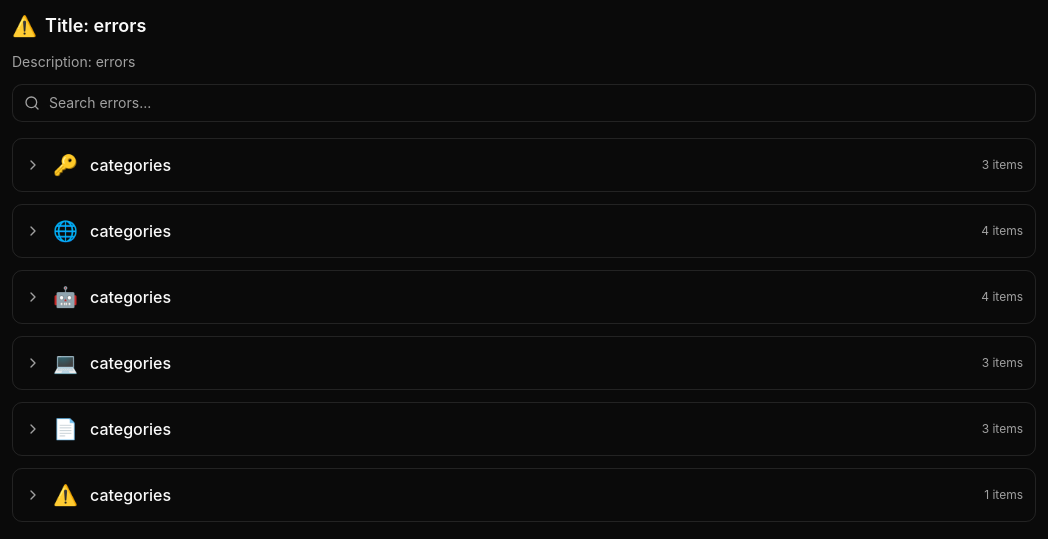
ErrorSolutions › should show no results message for unmatched search
This screenshot has width=1048, height=539.
输入不存在的搜索词
Type "xyznonexistent123" into the field with placeholder "Search errors...".
click(524, 103); type("xyznonexistent123")  # box [12,84,1036,122]
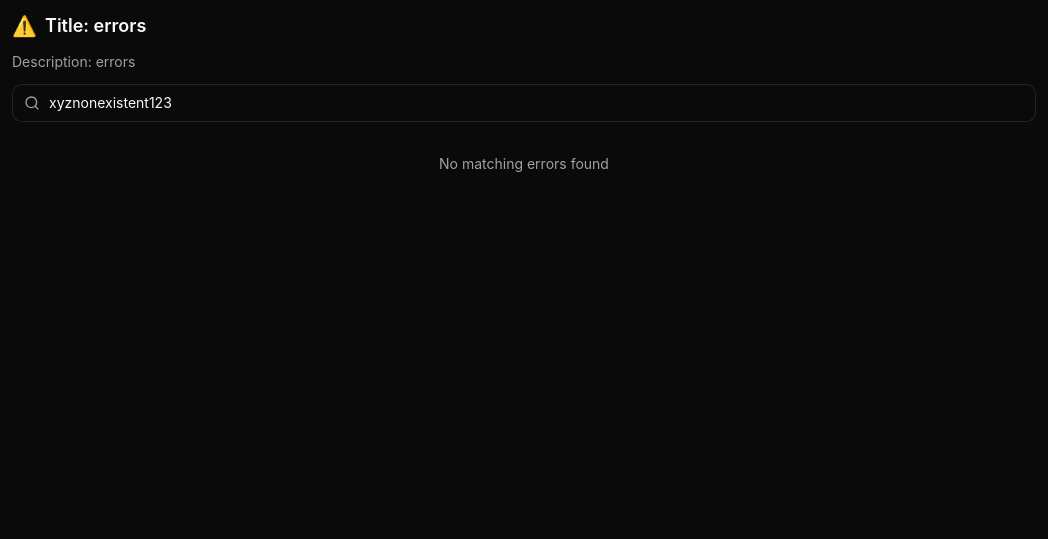
Now the text "No matching errors found" is shown, box [439,155,609,172]
